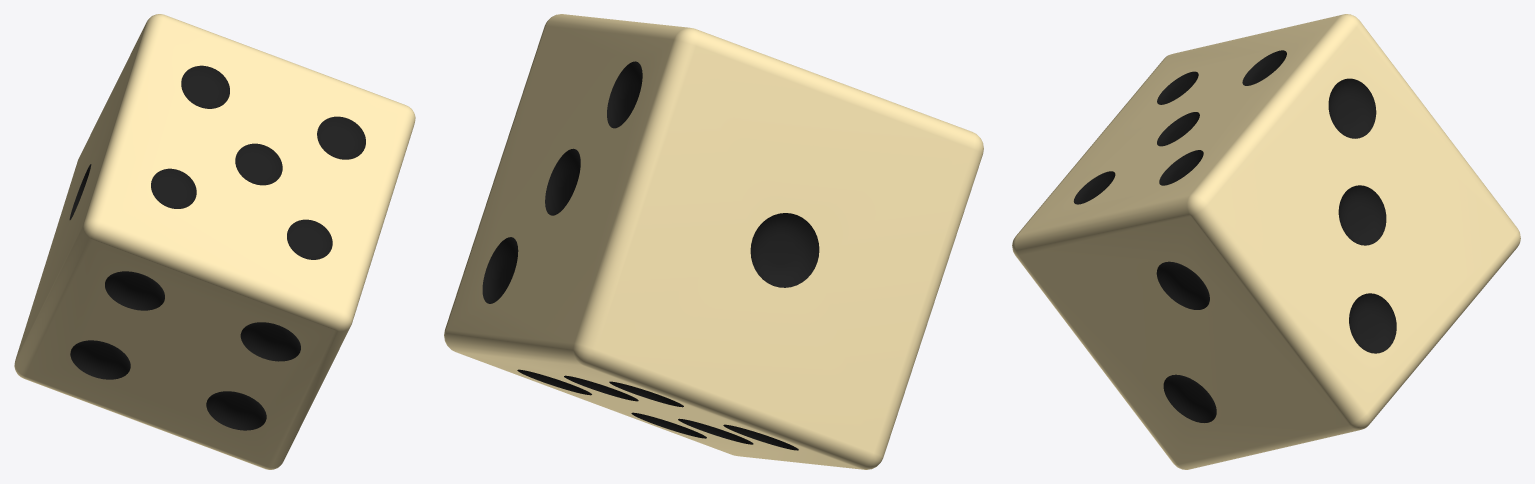
Rendered from Dice - 001.fbx.
3 views of the same model, side by side, from view 1: azimuth 30°, elevation 25°; view 2: azimuth 150°, elevation 25°; view 3: azimuth 270°, elevation 25° (orthographic). The views are drawn at different scales.
Visible parts, largest first — view 1: 立方体, 圆柱_4_4, 圆柱_2_2, 圆柱_1_2, 圆柱_3_2, 圆柱_1, 圆柱_3, 圆柱, 圆柱_2, 圆柱_4_2; view 2: 立方体, 空白, 圆柱_6_3, 圆柱_5_3, 圆柱_4_5; view 3: 立方体, 圆柱_4_5, 圆柱_5_3, 圆柱_6_3, 圆柱_2_3, 圆柱_1_3, 圆柱_3, 圆柱_1, 圆柱, 圆柱_2, 圆柱_4_2.
Boxes of the visible parts, box(x1,y1,x2,y2) form: 立方体: box(14, 14, 415, 469); 圆柱_4_4: box(70, 340, 130, 379); 圆柱_2_2: box(206, 391, 266, 430); 圆柱_1_2: box(240, 322, 300, 361); 圆柱_3_2: box(105, 271, 164, 310); 圆柱_1: box(317, 116, 365, 159); 圆柱_3: box(181, 65, 229, 108); 圆柱: box(235, 143, 282, 185); 圆柱_2: box(287, 219, 332, 259); 圆柱_4_2: box(151, 168, 196, 208); 立方体: box(444, 14, 983, 469); 空白: box(750, 213, 819, 287); 圆柱_6_3: box(607, 61, 642, 128); 圆柱_5_3: box(545, 148, 580, 215); 圆柱_4_5: box(482, 237, 518, 303); 立方体: box(1012, 14, 1520, 469); 圆柱_4_5: box(1349, 293, 1396, 353); 圆柱_5_3: box(1338, 185, 1386, 245); 圆柱_6_3: box(1328, 78, 1376, 138); 圆柱_2_3: box(1156, 261, 1209, 309); 圆柱_1_3: box(1163, 374, 1216, 422); 圆柱_3: box(1242, 50, 1286, 85); 圆柱_1: box(1159, 150, 1203, 185); 圆柱: box(1157, 112, 1199, 146); 圆柱_2: box(1073, 171, 1115, 204); 圆柱_4_2: box(1157, 71, 1198, 104).
Bounding box in the file's own units: 278 × 312 × 331.
